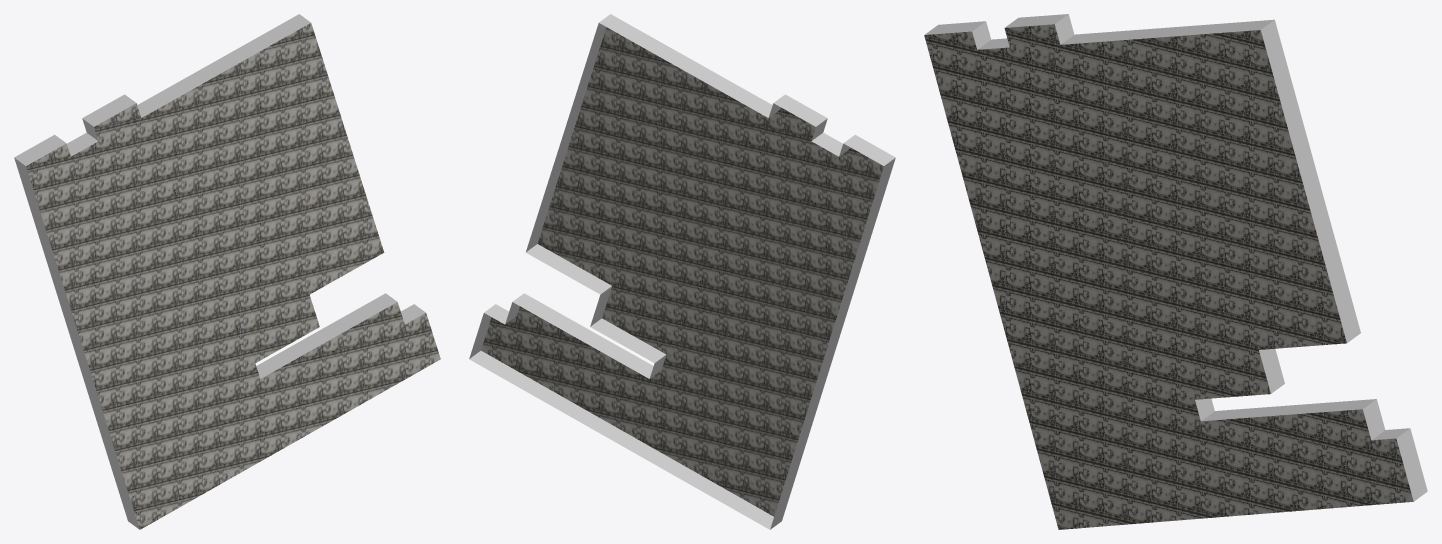
The model's file is geospecific_362.obj.
3 views of the same model, side by side, from view 1: azimuth 30°, elevation 25°; view 2: azimuth 150°, elevation 25°; view 3: azimuth 330°, elevation 25° (orthographic). The views are drawn at different scales.
Visible parts, largest first — view 1: Building; view 2: Building; view 3: Building.
Part boxes in pixels (box(x1,y1,x2,y2)): Building: box(14, 14, 440, 529); Building: box(469, 14, 895, 529); Building: box(924, 14, 1427, 529).
Bounding box in the file's own units: 60.32 × 64.67 × 3.
